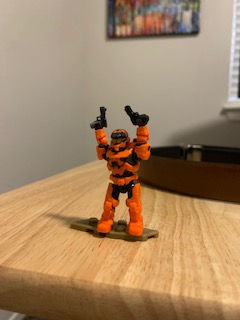pistol: (122, 102, 151, 127), (88, 104, 110, 132)
spartan: (87, 116, 152, 241)
up: (91, 119, 150, 178)
